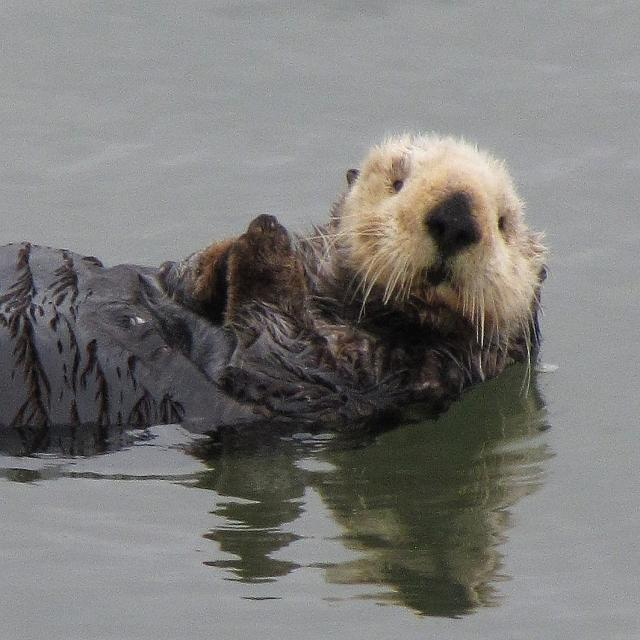otter: (1, 132, 538, 424)
